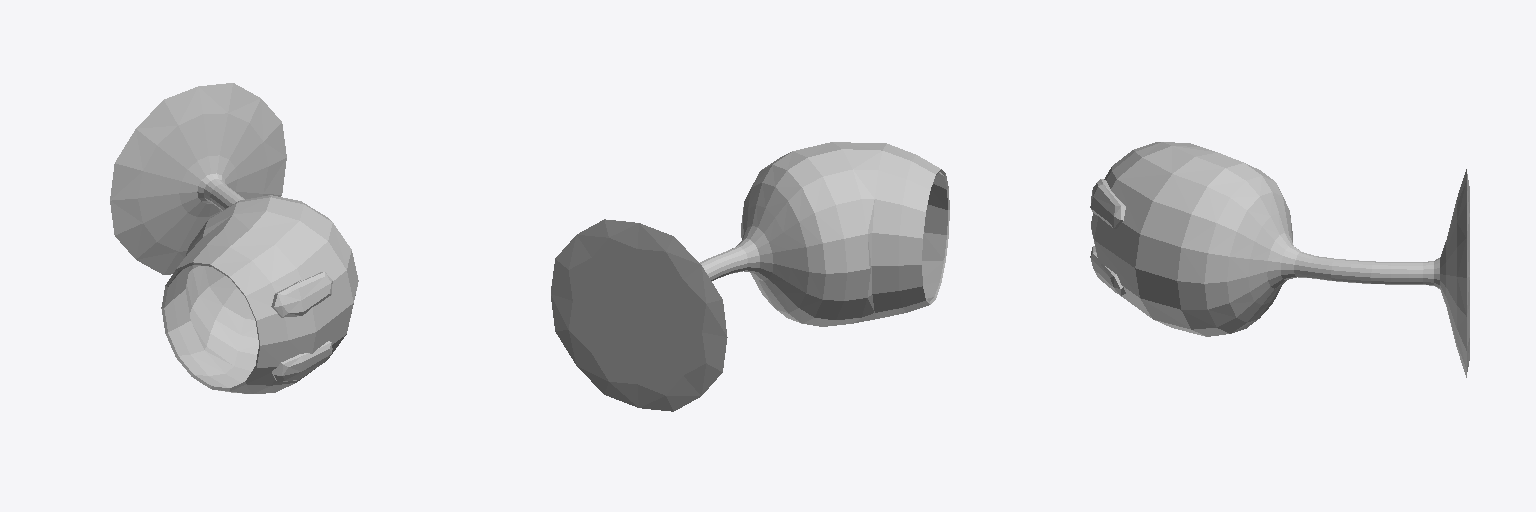
Rendered from animation_000005.obj.
3 views of the same model, side by side, from view 1: azimuth 30°, elevation 25°; view 2: azimuth 150°, elevation 25°; view 3: azimuth 270°, elevation 25° (orthographic).
Size of the model in its own units: 2.9 by 2.06 by 3.83.